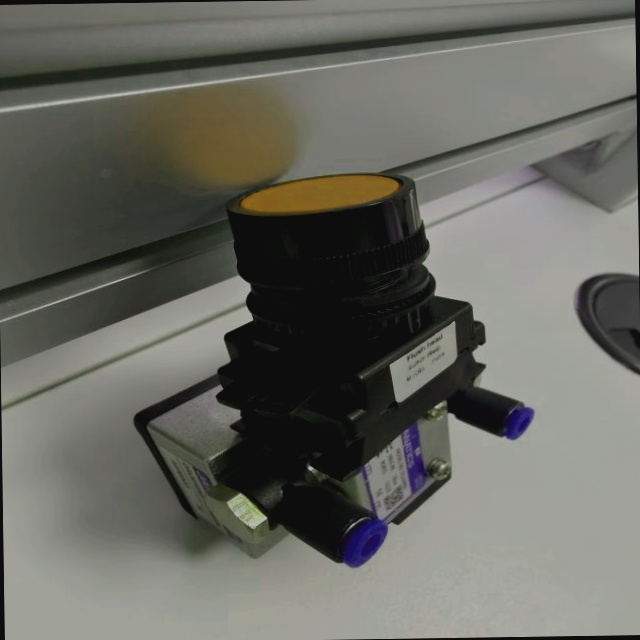push button: (130, 169, 537, 571)
